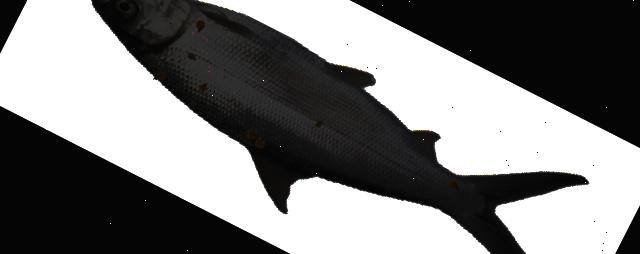Parasitic Disease: (92, 0, 586, 254)
